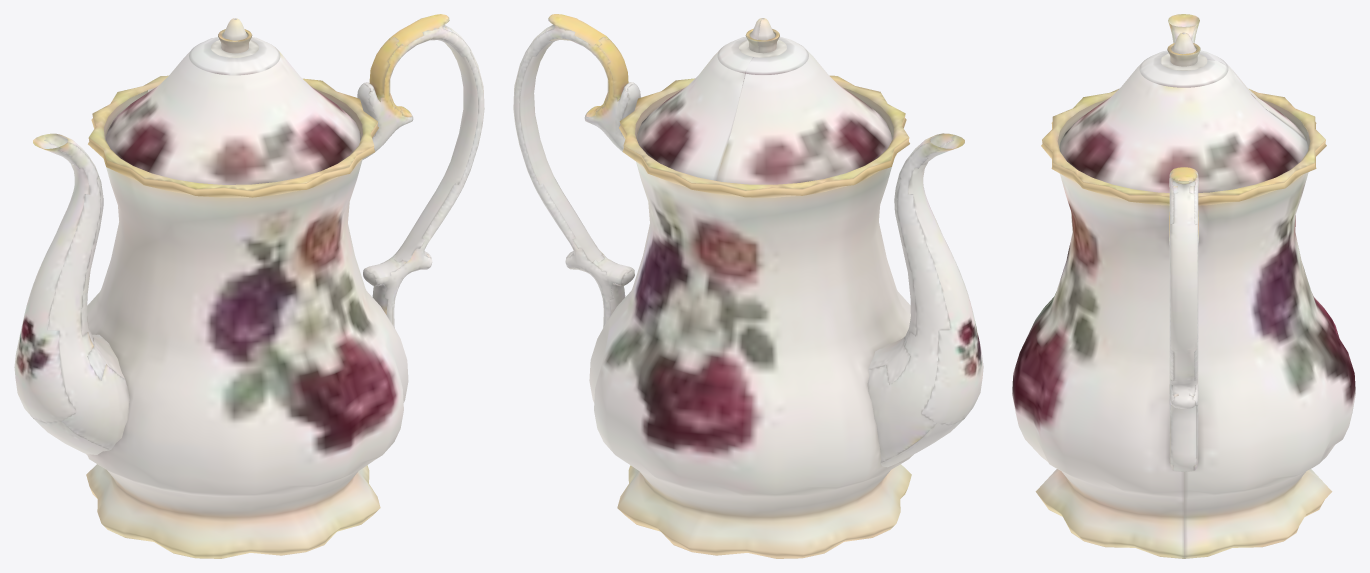
The model's file is obj_elegant_victorian_porcelan_t.glb.
3 renders of one model, left to right at view 1: azimuth 30°, elevation 25°; view 2: azimuth 150°, elevation 25°; view 3: azimuth 270°, elevation 25°, orthographic. The views are drawn at different scales.
Visible parts, largest first — view 1: defaultMaterial; view 2: defaultMaterial; view 3: defaultMaterial.
Boxes of the visible parts, bbox=[...] form: defaultMaterial: bbox=[14, 14, 484, 558]; defaultMaterial: bbox=[513, 14, 983, 558]; defaultMaterial: bbox=[1012, 14, 1355, 558].
Bounding box in the file's own units: 0.24 × 0.24 × 0.1601.
1 material, 1 textured.
